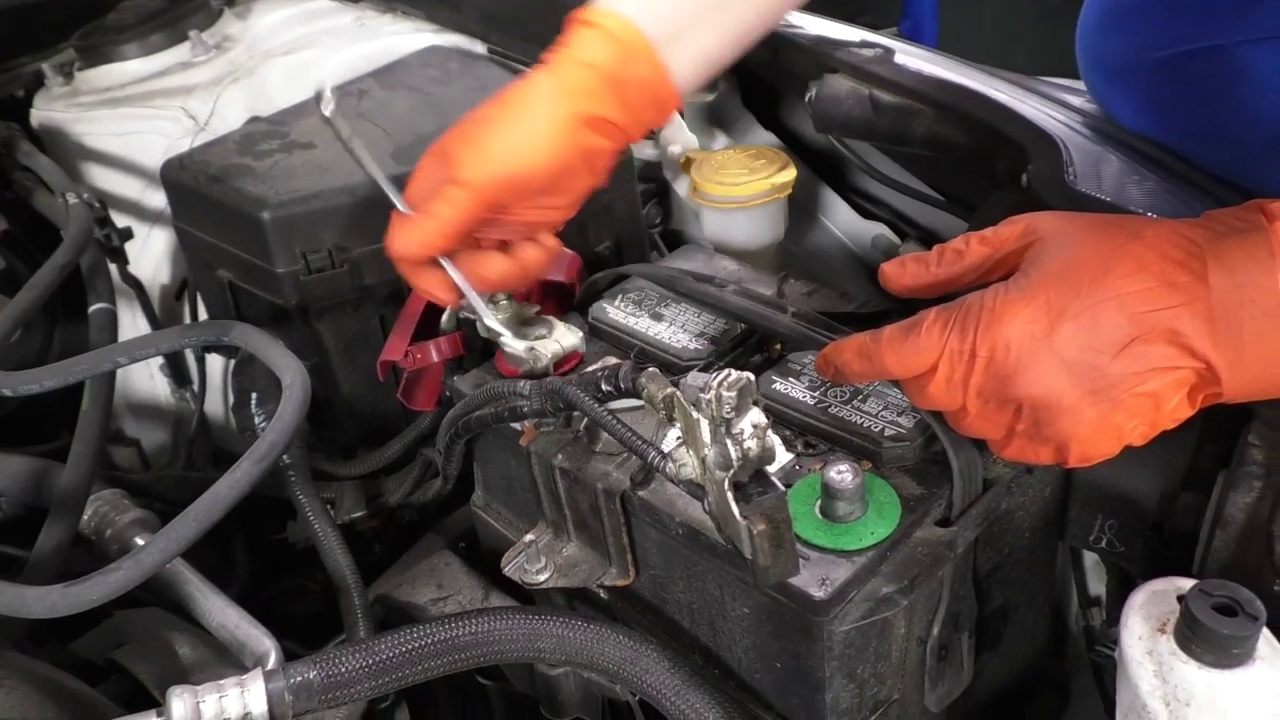battery: (449, 251, 1041, 602)
neg_disconnected: (755, 418, 908, 564)
pos_touched: (359, 163, 606, 409)
